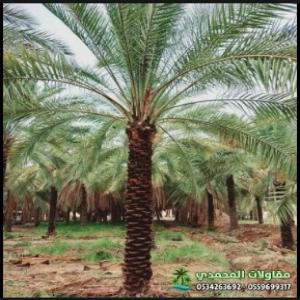palm tree: (3, 2, 297, 296)
